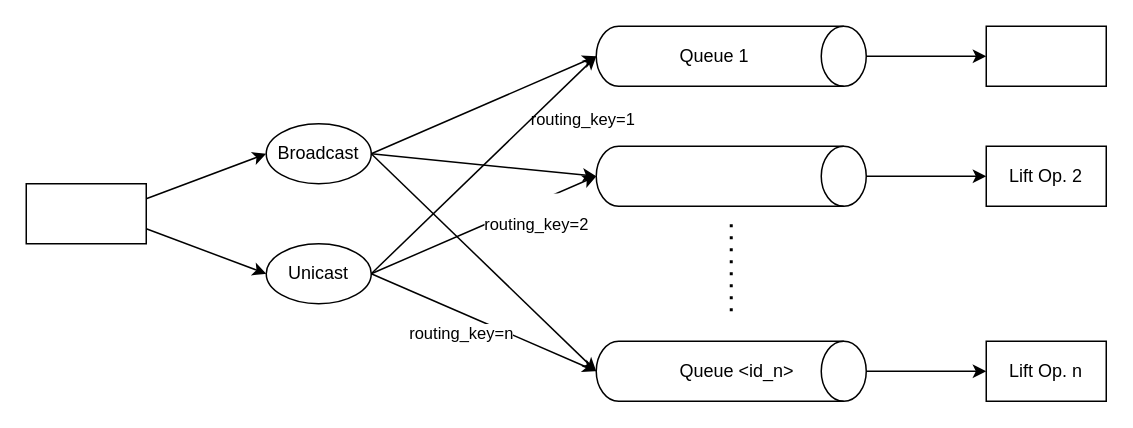
The diagram is 1133 pixels wide and 428 high, and some of its shapes have lost their labels. Here are the shapes that lost their labels. From the top down, the centre of each, then its label:
point 1045,55: Lift Op. 1
point 730,175: Queue 2
point 85,213: Central Unit
